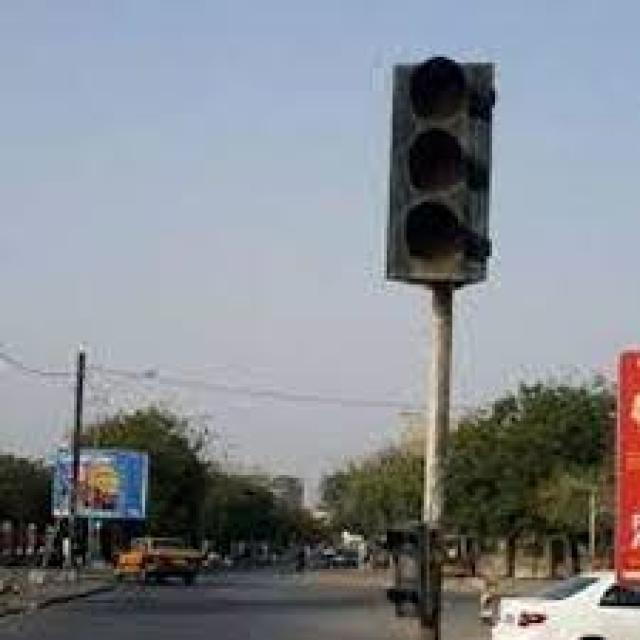feu: (369, 52, 495, 290), (387, 528, 423, 617)
particulier: (494, 573, 640, 640)
taxi: (117, 539, 206, 586)
